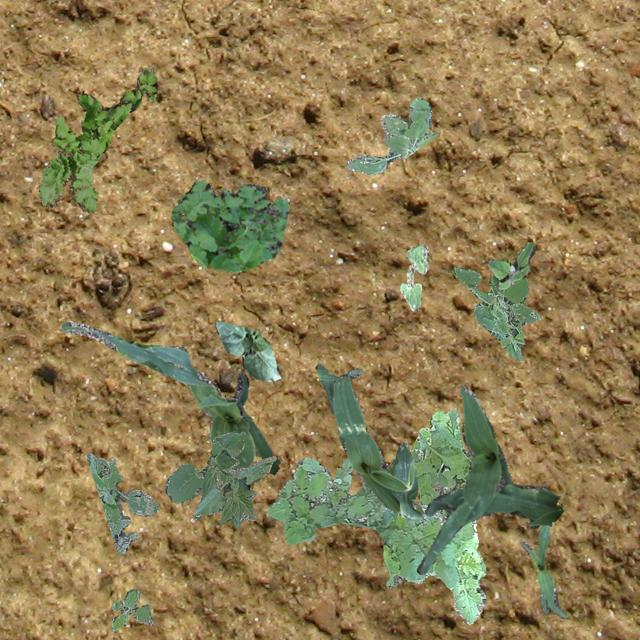crop: (59, 322, 279, 528), (416, 384, 564, 574), (314, 362, 422, 518), (164, 430, 276, 522), (518, 524, 566, 618), (214, 320, 280, 380), (398, 243, 428, 310)
weed: (266, 456, 484, 624), (37, 67, 156, 212), (170, 178, 288, 272), (452, 266, 540, 360), (86, 452, 158, 554), (344, 96, 436, 174), (410, 408, 470, 516), (486, 240, 534, 288), (110, 588, 152, 630)
